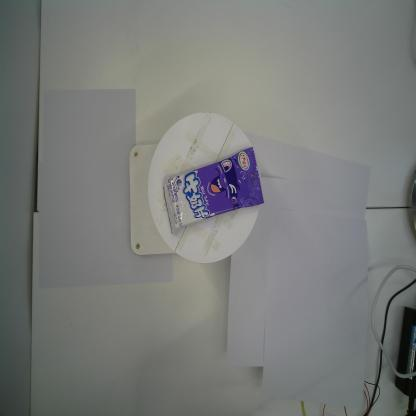Candy: (162, 147, 265, 235)
